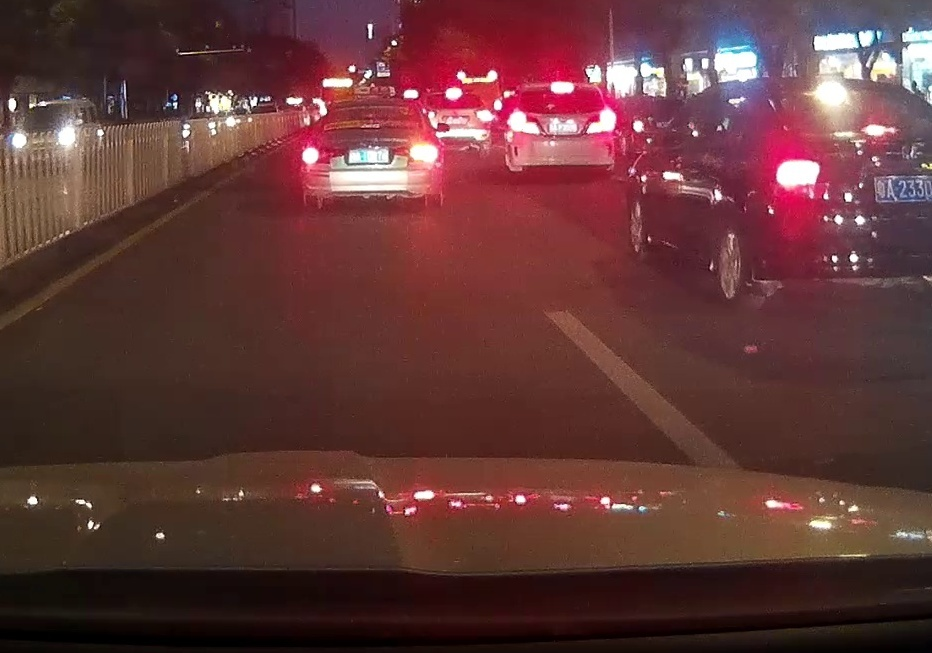L_light: (301, 138, 345, 164), (509, 110, 540, 135)
R_light: (393, 140, 441, 163), (586, 111, 614, 133)
T_light: (551, 83, 574, 93), (363, 113, 377, 118)
night-brake: (507, 81, 615, 172)
night-right: (301, 97, 443, 209)
